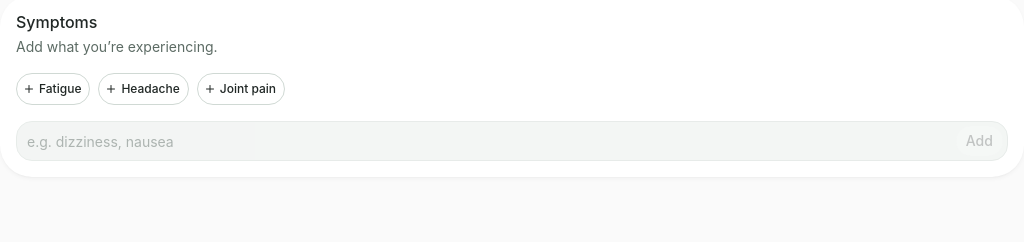
Test case: SymptomsCard › adds comma-separated entries with Enter, trimming blanks and ignoring case-insensitive duplicates
Click the button with aria-label "Add fatigue" at (53, 89), box [16, 73, 90, 105]
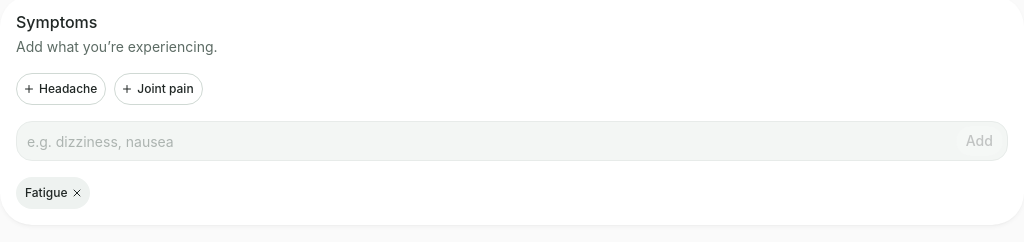
Type " fatigue, dizziness, , nausea, DIZZINESS " into the field named "Add symptoms" at (486, 141), box [17, 125, 955, 157]
Then press Enter
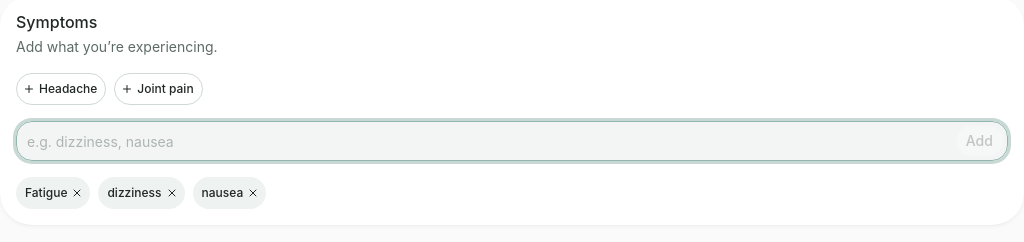
Expected: the number of list items is 3, [16, 177, 90, 209]; [98, 177, 184, 209]; [192, 177, 266, 209]
Expected: the button with aria-label "Remove dizziness" is shown, [98, 177, 184, 209]
Expected: the button with aria-label "Remove nausea" is shown, [192, 177, 266, 209]
